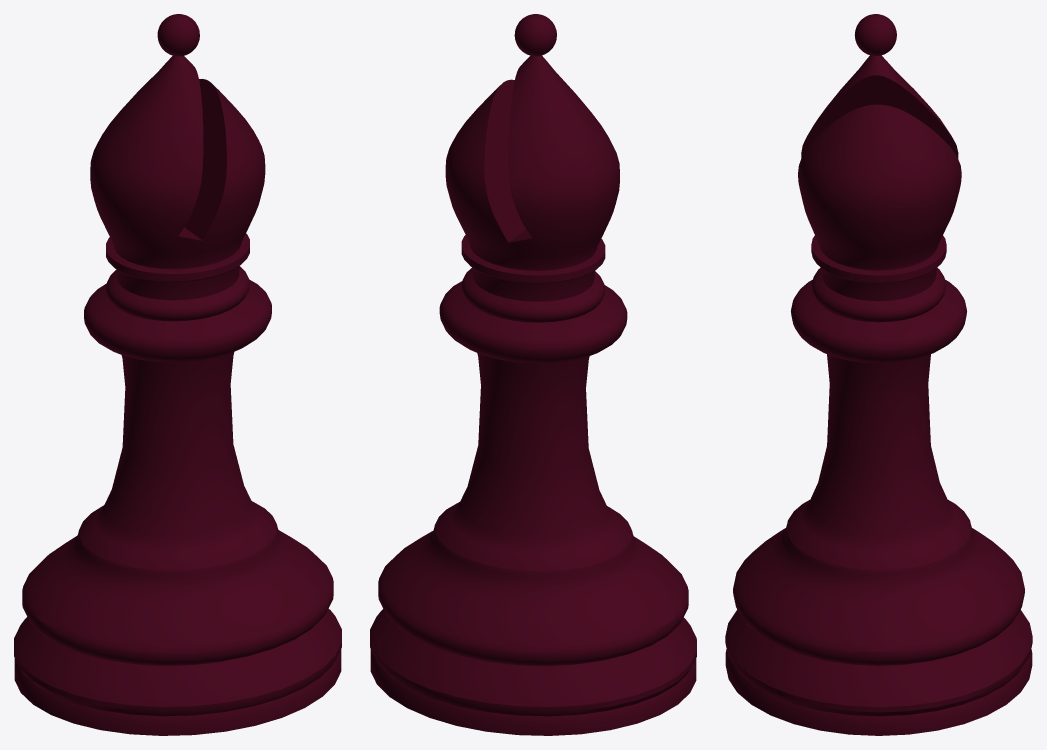
File: gercek3_b_b.glb
3 renders of one model, left to right at view 1: azimuth 30°, elevation 25°; view 2: azimuth 150°, elevation 25°; view 3: azimuth 270°, elevation 25°, orthographic.
Parts seen in each view (by area): view 1: Object_26; view 2: Object_26; view 3: Object_26.
Part boxes in pixels (bbox=[...]): Object_26: bbox=[14, 14, 341, 735]; Object_26: bbox=[370, 14, 696, 735]; Object_26: bbox=[725, 14, 1032, 735].
Bounding box in the file's own units: 1.36 × 2.93 × 1.26.
